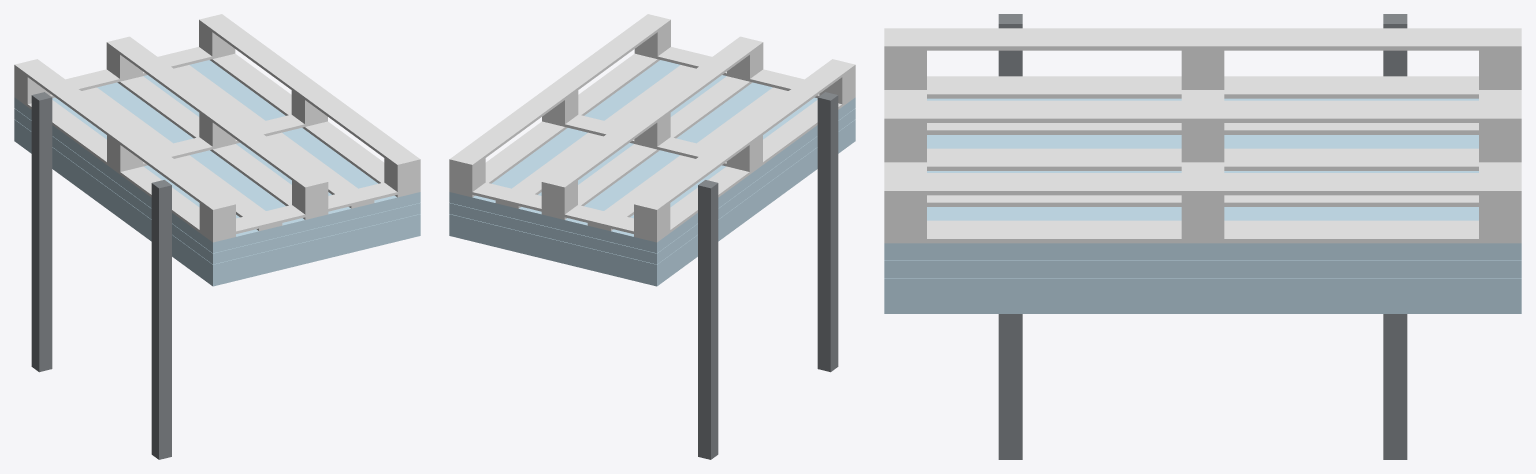
Rendered from evac.glb.
The picture shows the model from 3 angles, left to right: view 1: azimuth 30°, elevation 25°; view 2: azimuth 150°, elevation 25°; view 3: azimuth 270°, elevation 25°; orthographic projection. The views are drawn at different scales.
Visible parts, largest first — view 1: Part 2, Part 1__Part 1 (×6); view 2: Part 2, Part 1__Part 1 (×6); view 3: Part 2, Part 1__Part 1 (×6).
Boxes of the visible parts, <box> form: Part 2: <box>14,14,420,242</box>; Part 1__Part 1 (×6): <box>14,60,420,459</box>; Part 2: <box>449,14,855,242</box>; Part 1__Part 1 (×6): <box>449,60,855,459</box>; Part 2: <box>884,28,1521,243</box>; Part 1__Part 1 (×6): <box>884,14,1521,459</box>.
Bounding box in the file's own units: 0.8706 × 1 × 1.33.
